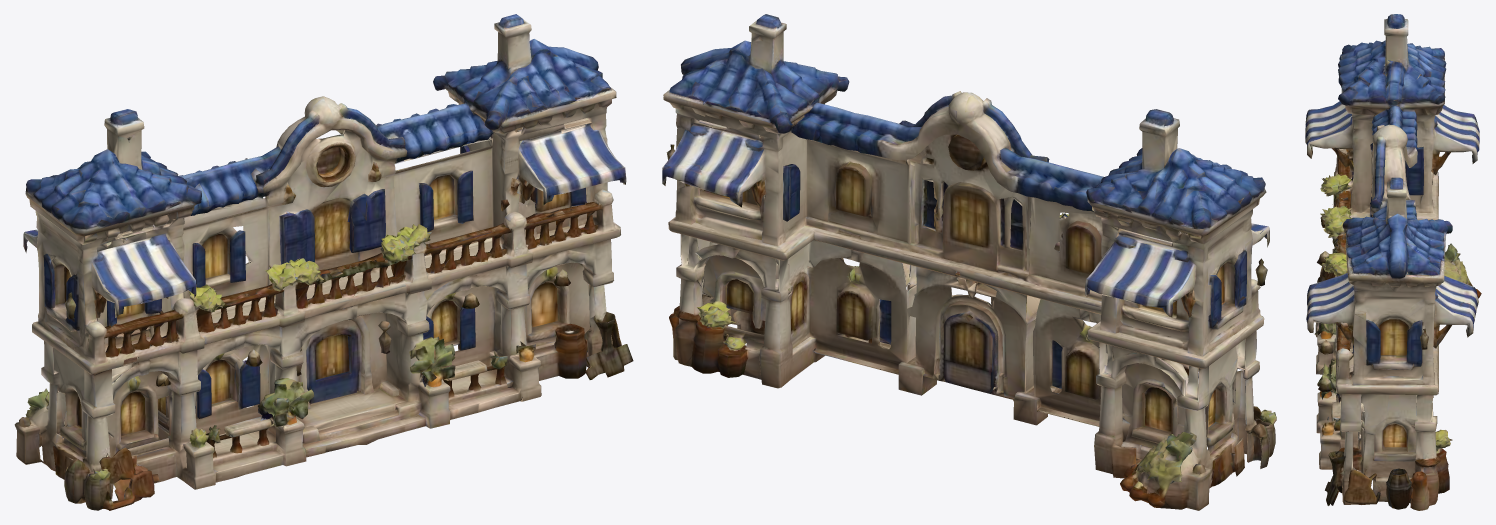
The picture shows the model from 3 angles, left to right: view 1: azimuth 30°, elevation 25°; view 2: azimuth 150°, elevation 25°; view 3: azimuth 270°, elevation 25°; orthographic projection. The views are drawn at different scales.
Parts seen in each view (by area): view 1: harbor__finance_2__native_mobile; view 2: harbor__finance_2__native_mobile; view 3: harbor__finance_2__native_mobile.
Boxes of the visible parts, bbox=[...] form: harbor__finance_2__native_mobile: bbox=[14, 14, 633, 510]; harbor__finance_2__native_mobile: bbox=[662, 14, 1276, 510]; harbor__finance_2__native_mobile: bbox=[1305, 14, 1481, 510].
Size of the model in its own units: 1 by 0.6117 by 0.3165.
Materials: 1 (1 with a texture image).
